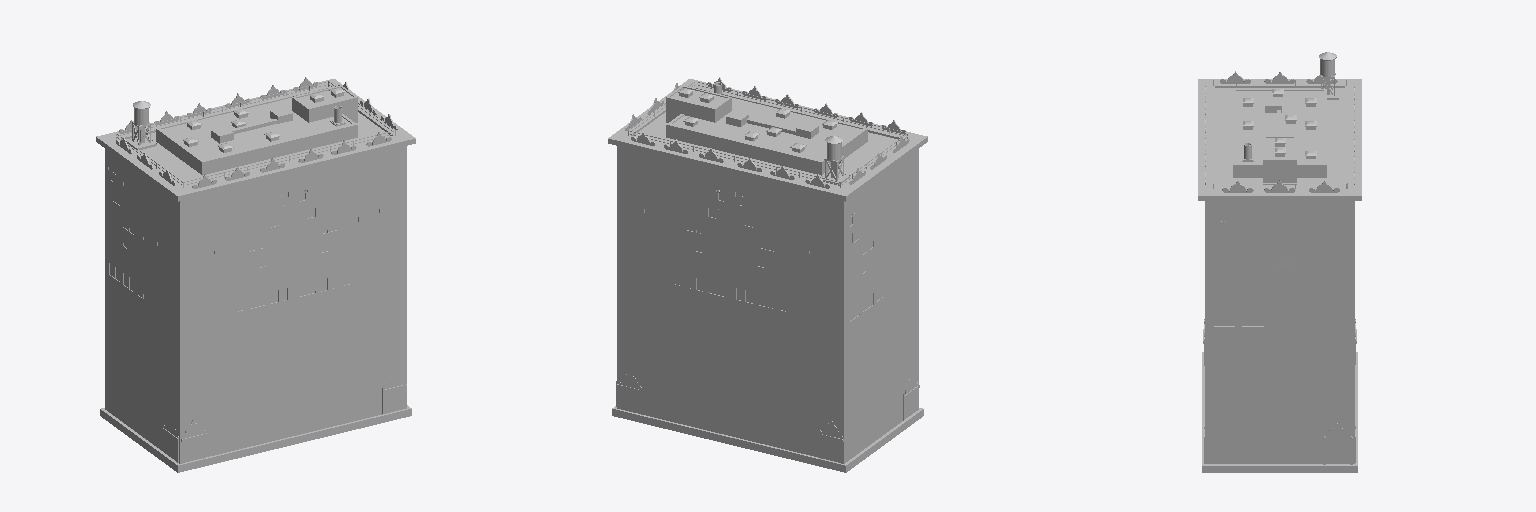
The model's file is Bayard4Joined.obj.
The picture shows the model from 3 angles: view 1: azimuth 30°, elevation 25°; view 2: azimuth 150°, elevation 25°; view 3: azimuth 270°, elevation 25°; orthographic projection.
Parts seen in each view (by area): view 1: Door; view 2: Door; view 3: Door.
Part boxes in pixels (left/top/right/bottom): Door: left=96, top=77, right=415, bottom=472; Door: left=608, top=77, right=927, bottom=472; Door: left=1198, top=52, right=1361, bottom=472.
Size of the model in its own units: 33.22 by 42.64 by 19.77.